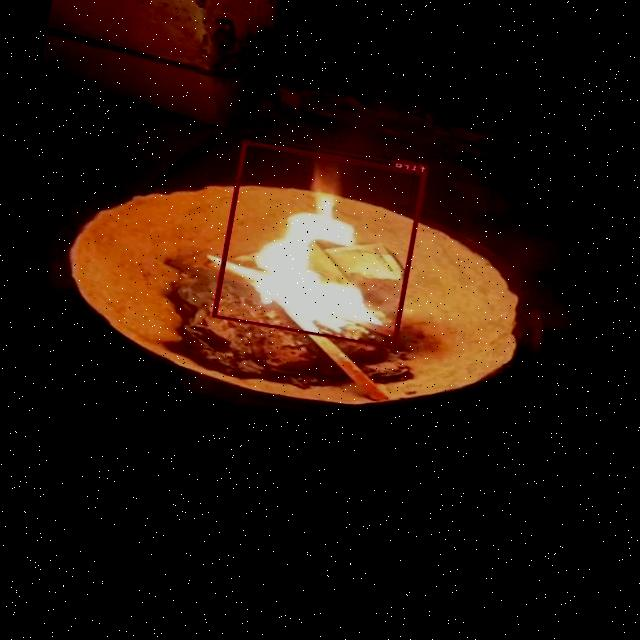fire: (213, 140, 426, 348)
